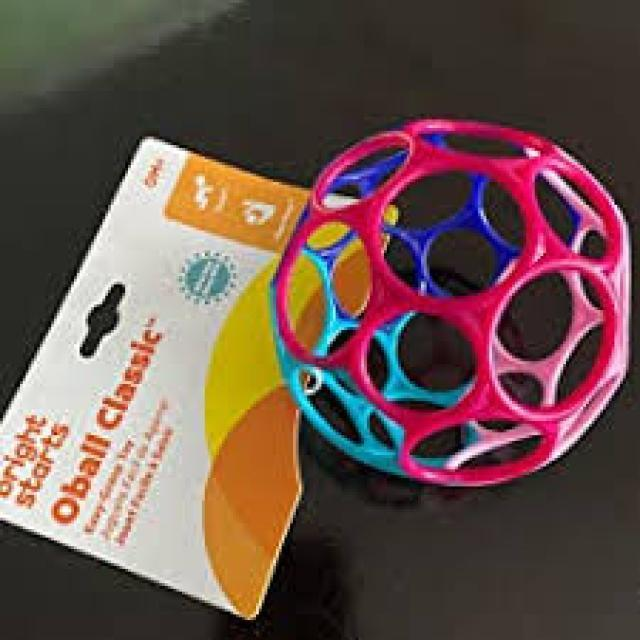hard-toy: (275, 121, 630, 486)
